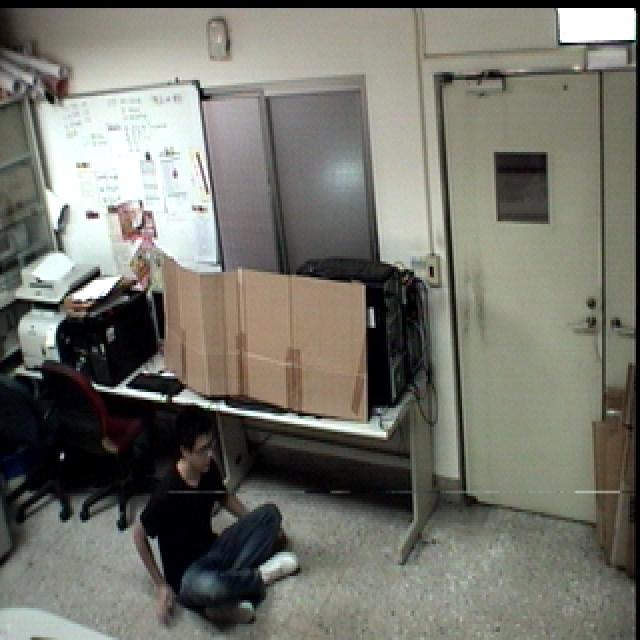sit: (131, 402, 302, 638)
